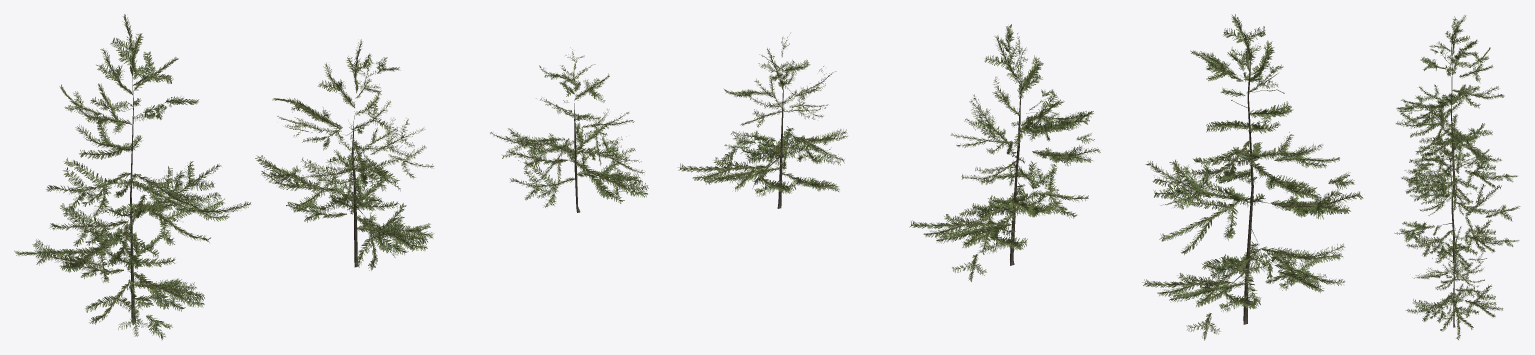
Rendered from fir_sapling.glb.
3 renders of one model, left to right at view 1: azimuth 30°, elevation 25°; view 2: azimuth 150°, elevation 25°; view 3: azimuth 270°, elevation 25°, orthographic. The views are drawn at different scales.
Parts seen in each view (by area): view 1: fir_sapling_a; view 2: fir_sapling_a; view 3: fir_sapling_a.
Boxes of the visible parts, x1=… form: fir_sapling_a: x1=14, y1=14, x2=648, y2=340; fir_sapling_a: x1=677, y1=14, x2=1363, y2=340; fir_sapling_a: x1=1394, y1=15, x2=1520, y2=339.
Size of the model in its own units: 2.74 by 1.3 by 0.8239.
Materials: 2 (2 with a texture image).
